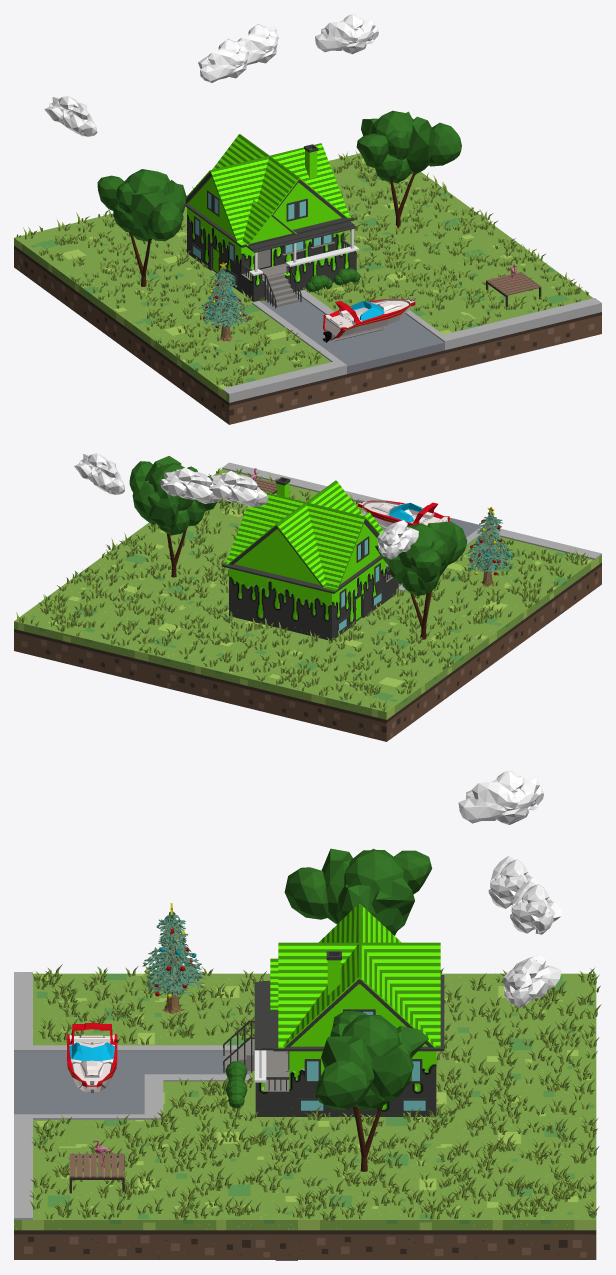
The picture shows the model from 3 angles, top to bottom: view 1: azimuth 30°, elevation 25°; view 2: azimuth 150°, elevation 25°; view 3: azimuth 270°, elevation 25°; orthographic projection. The views are drawn at different scales.
Parts seen in each view (by area): view 1: Cube.006, Cube.754, Circle.012_Grass_0.192, Cube.007, tree, tree.001, VEHICLES_BOAT, OBJRANDOM_CHRISTMAS_TREE, Cube.009; view 2: Cube.006, Cube.754, Circle.012_Grass_0.192, Cube.007, tree.001, tree, OBJRANDOM_CHRISTMAS_TREE, VEHICLES_BOAT; view 3: Cube.006, Circle.012_Grass_0.192, Cube.754, tree, Cube.007, tree.001, OBJRANDOM_CHRISTMAS_TREE, VEHICLES_BOAT, Cube.009.
Boxes of the visible parts, <box> form: Cube.006: <box>14,153,601,424</box>; Cube.754: <box>185,134,359,308</box>; Circle.012_Grass_0.192: <box>16,150,588,386</box>; Cube.007: <box>44,14,378,136</box>; tree: <box>356,110,461,228</box>; tree.001: <box>97,169,186,286</box>; VEHICLES_BOAT: <box>322,298,415,342</box>; OBJRANDOM_CHRISTMAS_TREE: <box>199,262,249,341</box>; Cube.009: <box>486,272,541,306</box>; Cube.006: <box>14,462,601,741</box>; Cube.754: <box>221,477,398,640</box>; Circle.012_Grass_0.192: <box>16,468,588,711</box>; Cube.007: <box>74,453,418,559</box>; tree.001: <box>375,521,467,639</box>; tree: <box>129,456,216,577</box>; OBJRANDOM_CHRISTMAS_TREE: <box>465,506,512,587</box>; VEHICLES_BOAT: <box>358,500,449,527</box>; Cube.006: <box>14,972,596,1259</box>; Circle.012_Grass_0.192: <box>29,964,601,1221</box>; Cube.754: <box>223,904,444,1116</box>; tree: <box>315,1010,428,1171</box>; Cube.007: <box>458,770,561,1007</box>; tree.001: <box>284,848,432,935</box>; OBJRANDOM_CHRISTMAS_TREE: <box>142,903,205,1014</box>; VEHICLES_BOAT: <box>67,1023,117,1093</box>; Cube.009: <box>69,1153,124,1193</box>.
Bounding box in the file's own units: 4071 × 2184 × 4040.
33 materials, 4 textured.
